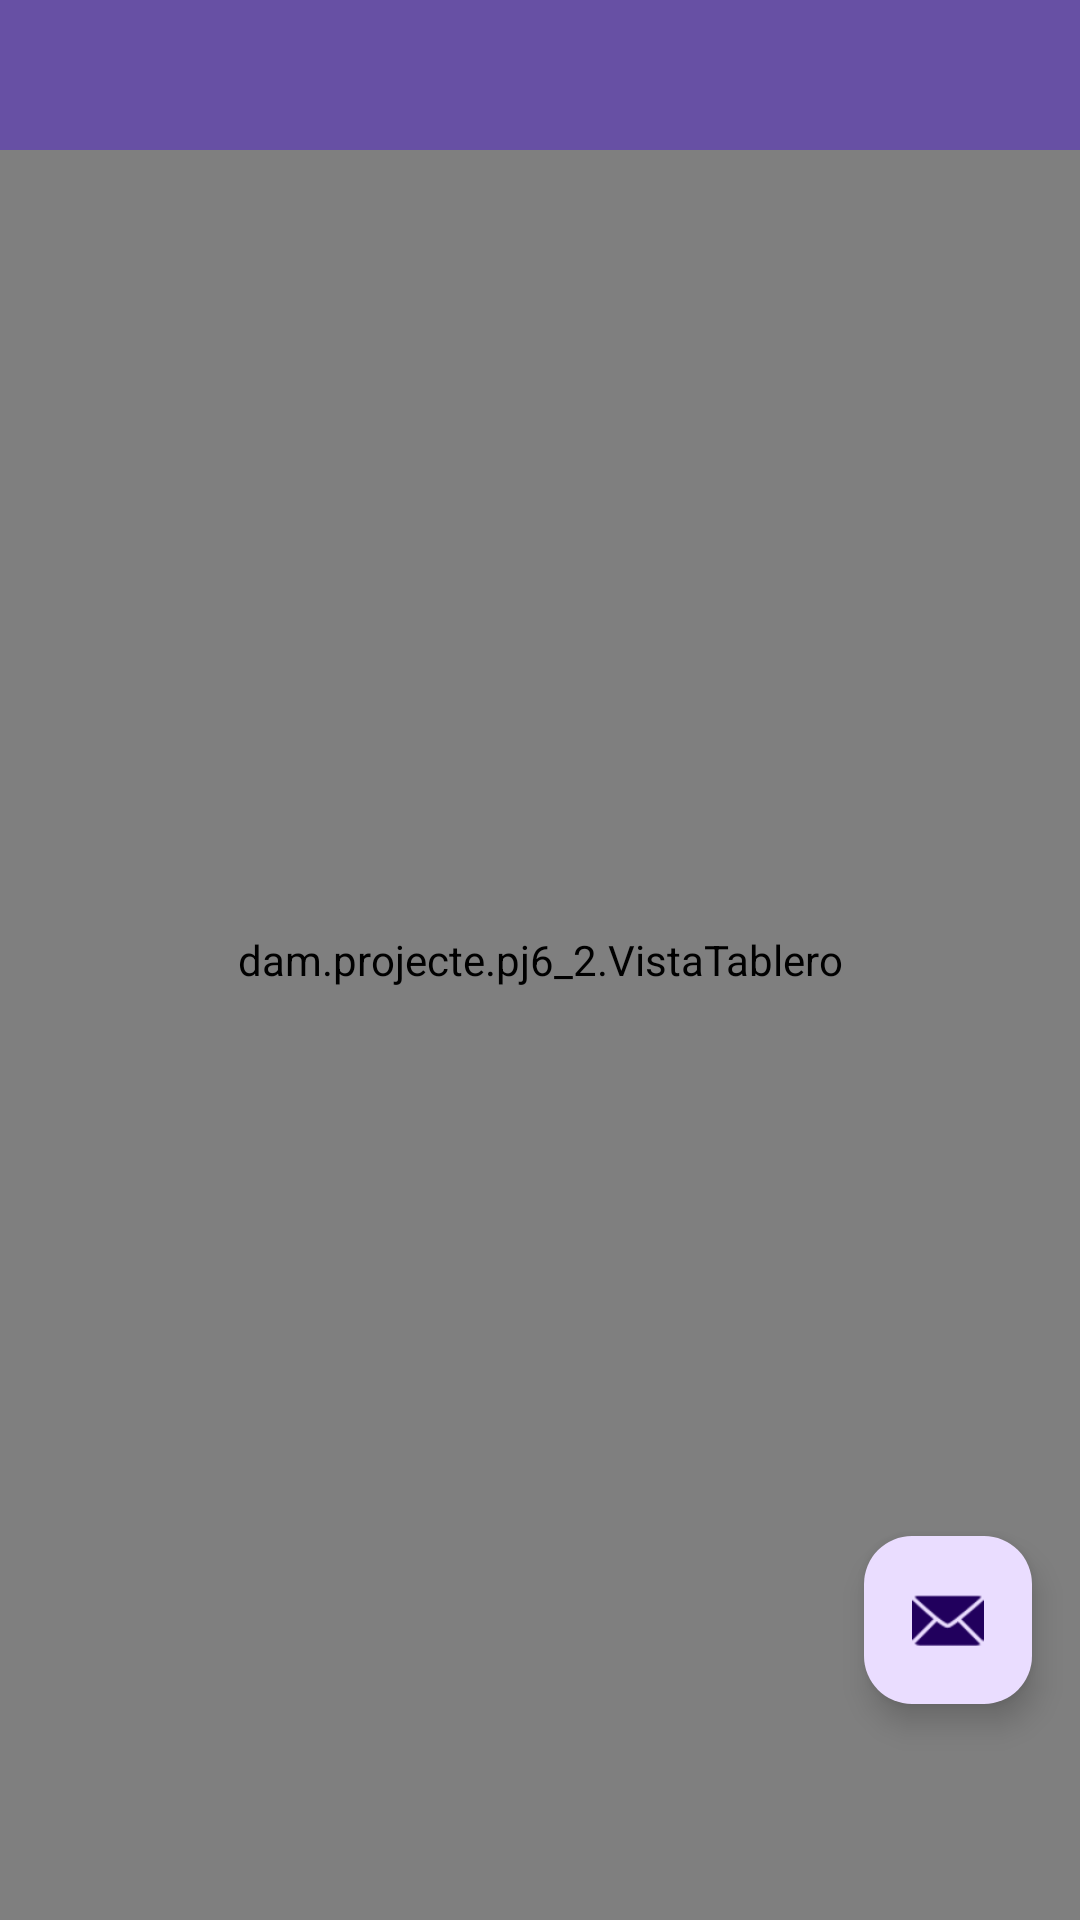

Named icons in this screenshot (1080w x 1920h) and their bounding boxes, (x1, y1, x2, y2):
email: (864, 1536, 1032, 1704)
